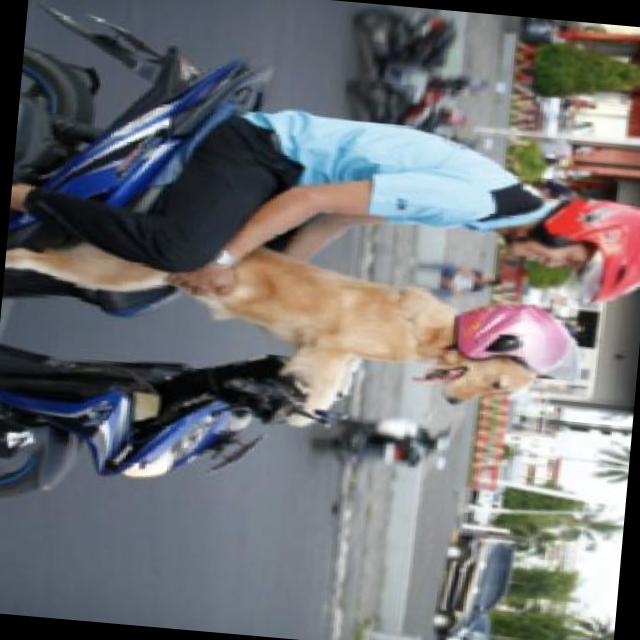With Helmet: (497, 194, 640, 303)
